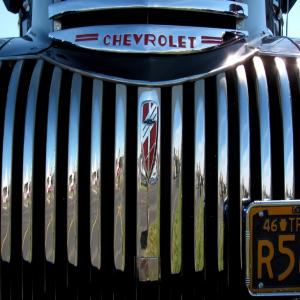Vehicle-registration-plate: (250, 207, 300, 293)
